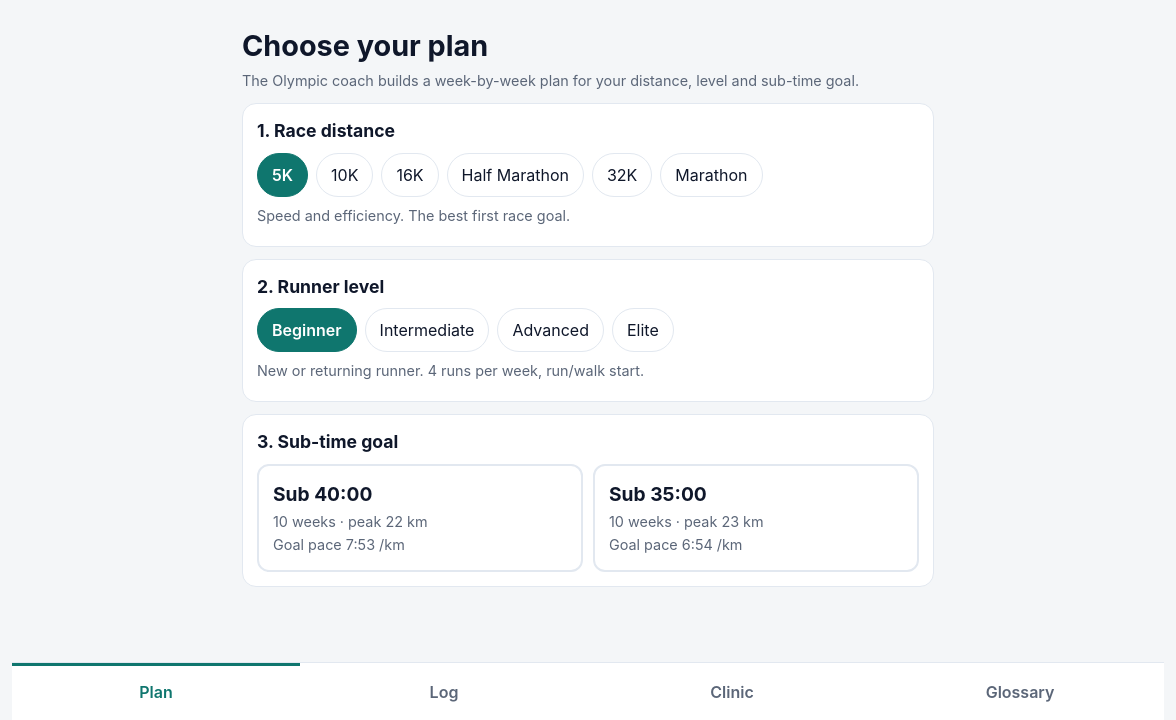
Test: app flow › session steps are ordered stretching -> warm-up -> main -> cool-down -> stretching
Click the radio button labelled "5K" at (282, 175), box [257,153,308,197]
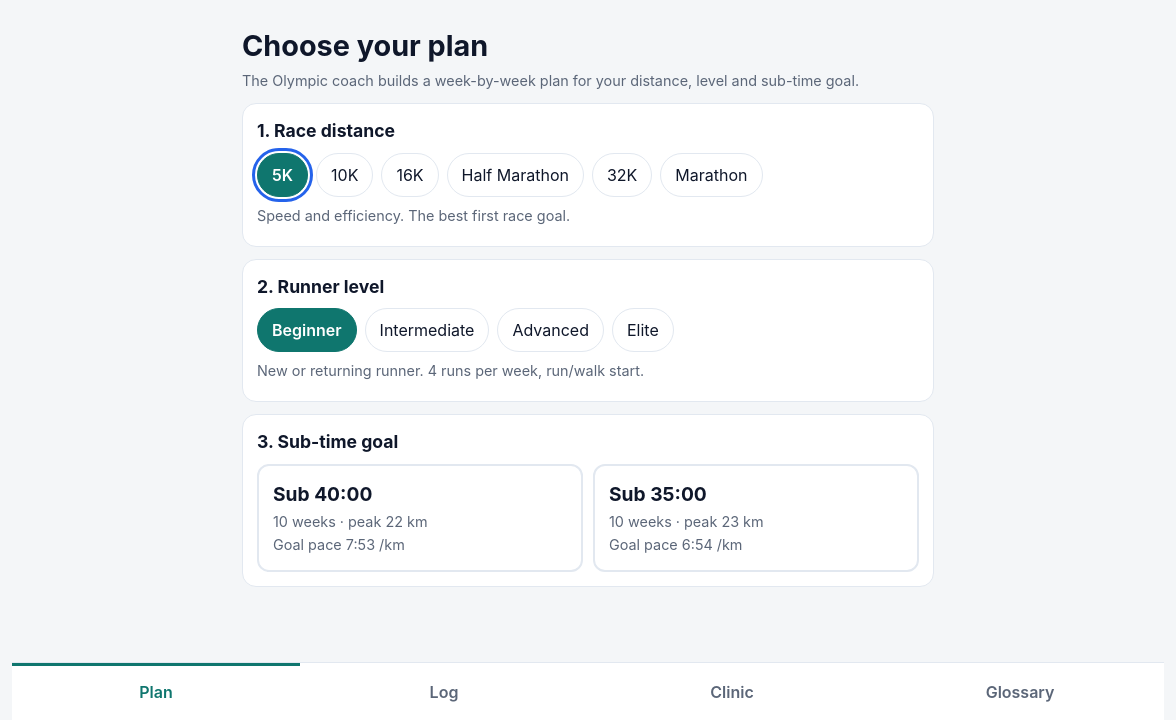
Click the radio button labelled "Beginner" at (307, 330), box [257,308,357,352]
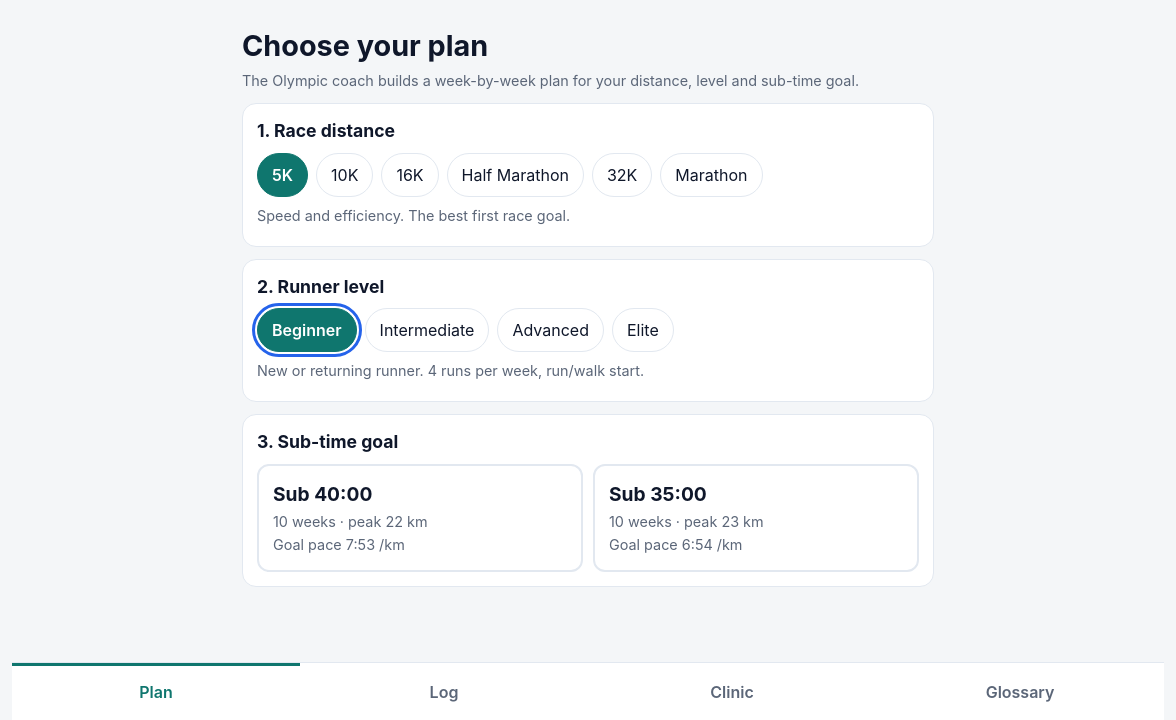
Click the button "Sub 40:00 10 weeks · peak 22 km Goal pace 7:53 /km" at (420, 518), box [257,464,583,572]
(page scrolled)
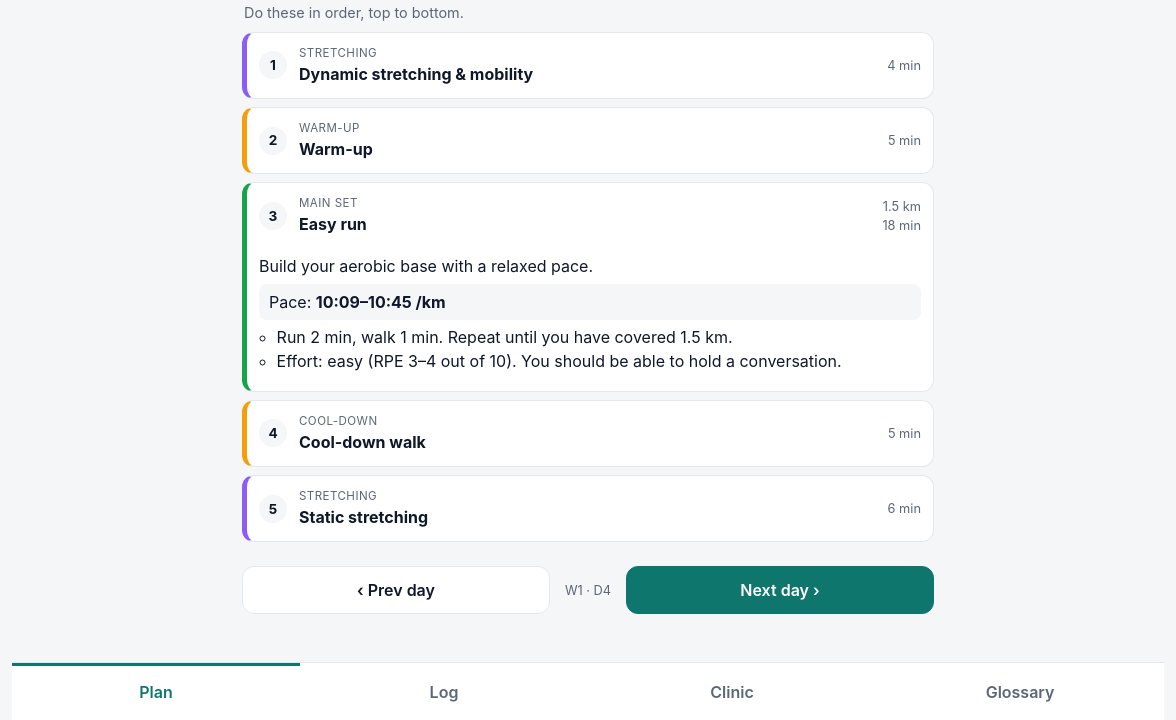
Now the navigation bar named "Day navigation" is shown, box [242,558,934,622]
Now the 1st text with class "step-kind" reads "Warm-up", box [299,121,360,135]
Now the 1st text with class "step-kind" reads "Stretching", box [299,46,377,60]
